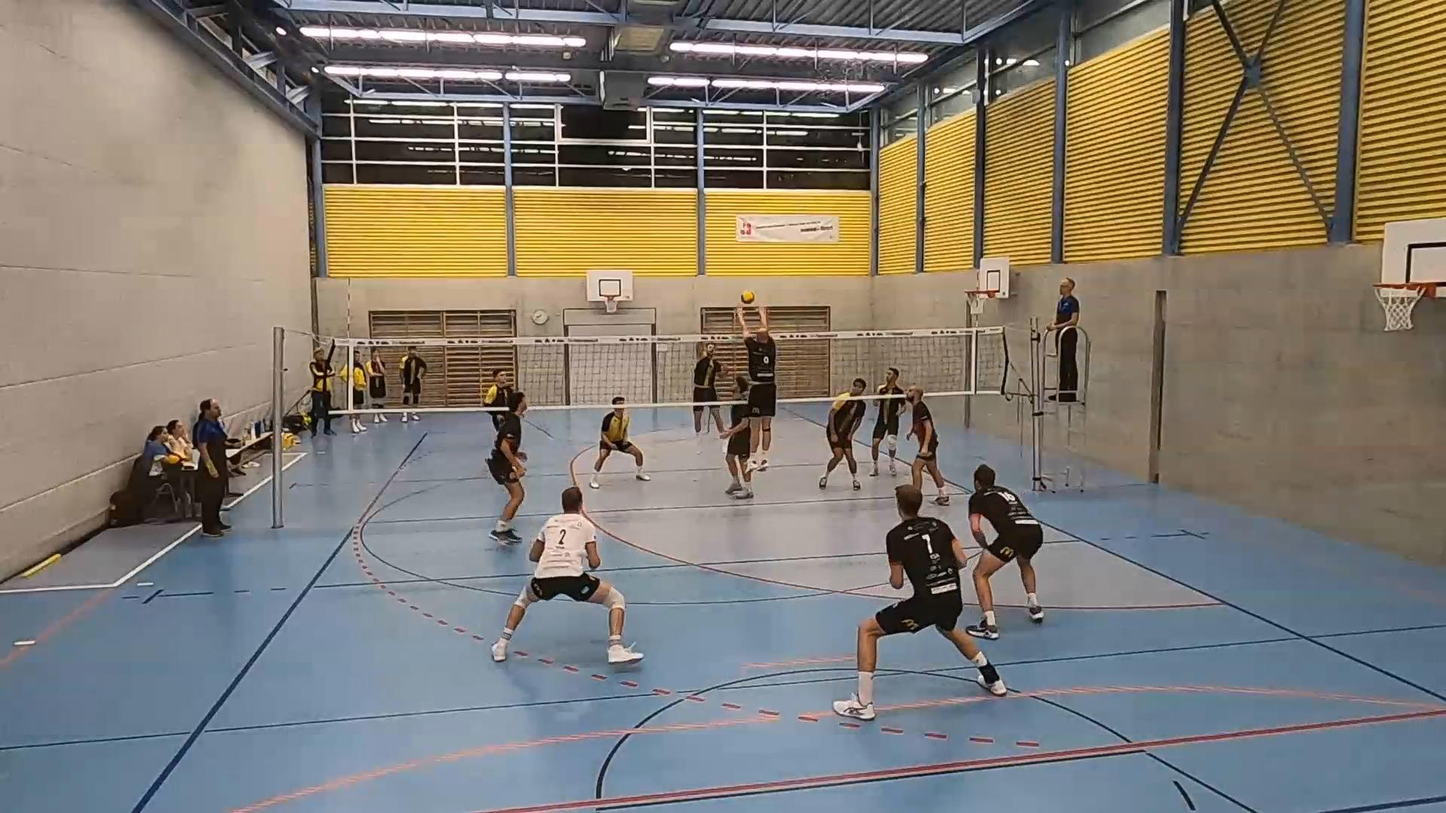attacco: (684, 330, 729, 444)
muro: (730, 303, 777, 481)
